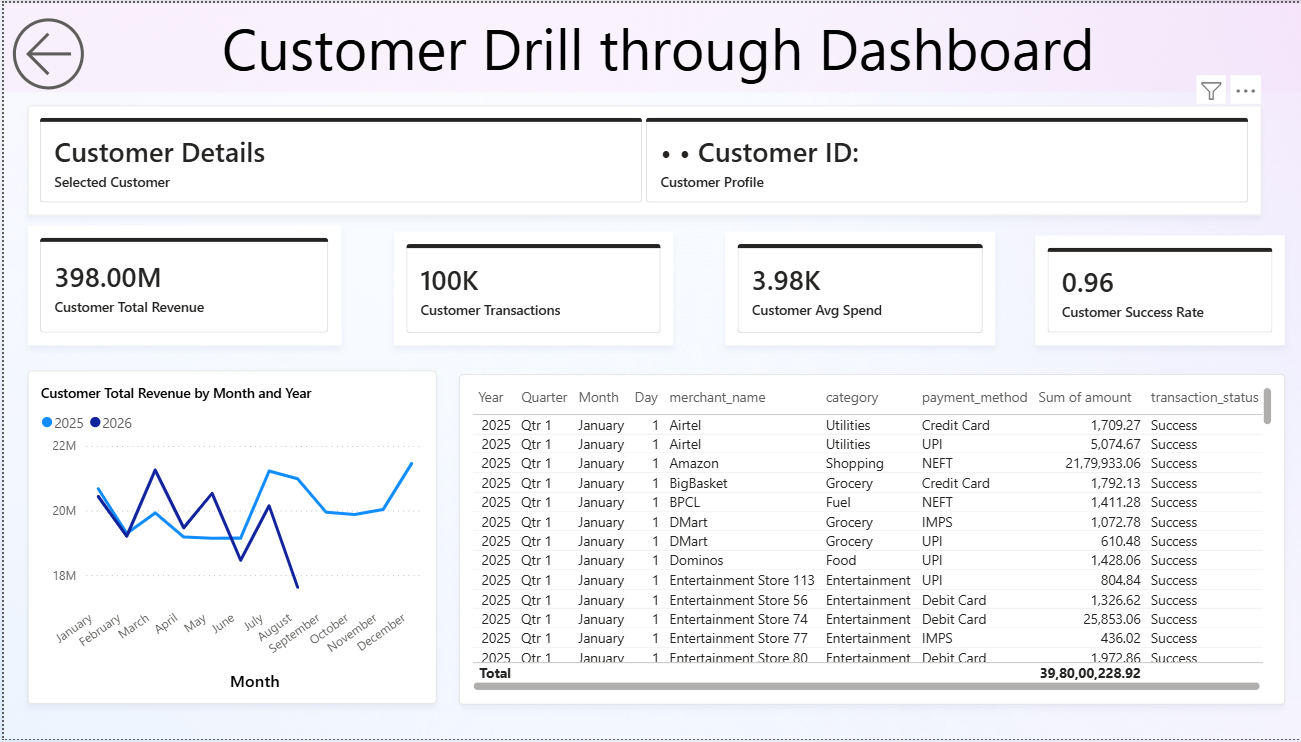

The dashboard page shown, as its layout file describes it:
{"tool":"powerbi","page":{"name":"Customer Details","canvas":[1280,720],"ordinal":3},"visuals":[{"type":"textbox","box":[0,0,1280.3,86.8],"z":0},{"type":"cardVisual","fields":{"Data":["banking_master.Customer Total Revenue"]},"box":[23.2,217.7,306.9,117.4],"z":1000,"group":"g1"},{"type":"lineChart","fields":{"Category":["Calendar.Date.Variation.Date Hierarchy.Month"],"Series":["Calendar.Date.Variation.Date Hierarchy.Year"],"Y":["banking_master.Customer Total Revenue"]},"box":[23.2,359.5,399.9,326.5],"z":1000},{"type":"cardVisual","fields":{"Data":["banking_master.Customer Avg Spend"]},"box":[705.5,223.8,264.1,111.3],"z":2000,"group":"g1"},{"type":"tableEx","fields":{"Values":["banking_master.transaction_datetime.Variation.Date Hierarchy.Year","banking_master.transaction_datetime.Variation.Date Hierarchy.Quarter","banking_master.transaction_datetime.Variation.Date Hierarchy.Month","banking_master.transaction_datetime.Variation.Date Hierarchy.Day","banking_master.merchant_name","banking_master.category","banking_master.payment_method","Sum(banking_master.amount)","banking_master.transaction_status"]},"box":[445.1,363.2,808.3,322.8],"z":2000},{"type":"cardVisual","fields":{"Data":["banking_master.Selected Customer","banking_master.Customer Profile"]},"box":[23.2,100.3,1206.9,107.6],"z":3000},{"type":"cardVisual","fields":{"Data":["banking_master.Customer Success Rate"]},"box":[1008.8,227.5,244.6,107.6],"z":3000,"group":"g1"},{"type":"actionButton","box":[0,0,86.8,100.3],"z":4000},{"type":"cardVisual","fields":{"Data":["banking_master.Customer Transactions"]},"box":[381.5,223.8,273.9,111.3],"z":4000,"group":"g1"},{"type":"group","id":"g1","title":"Group 1","box":[23.2,217.7,1230.2,117.4],"z":5000}]}

Visuals, with their boxes in screenshot pixels (x1, y1, x2, y2), scaled from the page's 1280x720 canvas onto the 1301x742 screenshot:
textbox: <box>0,0,1300,89</box>
cardVisual - banking_master.Customer Total Revenue: <box>24,224,336,345</box>
lineChart - Calendar.Date.Variation.Date Hierarchy.Month x Calendar.Date.Variation.Date Hierarchy.Year: <box>24,370,430,707</box>
cardVisual - banking_master.Customer Avg Spend: <box>717,231,986,345</box>
tableEx - banking_master.transaction_datetime.Variation.Date Hierarchy.Year x banking_master.transaction_datetime.Variation.Date Hierarchy.Quarter: <box>452,374,1274,707</box>
cardVisual - banking_master.Selected Customer x banking_master.Customer Profile: <box>24,103,1250,214</box>
cardVisual - banking_master.Customer Success Rate: <box>1025,234,1274,345</box>
actionButton: <box>0,0,88,103</box>
cardVisual - banking_master.Customer Transactions: <box>388,231,666,345</box>
"Group 1" group: <box>24,224,1274,345</box>
